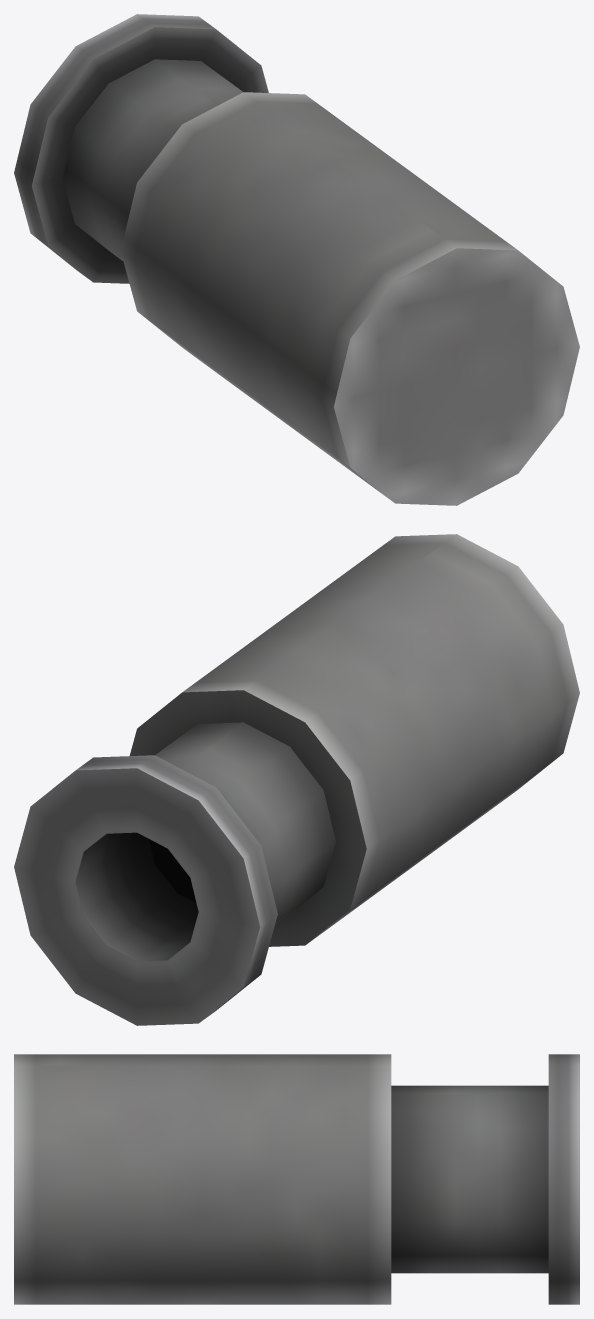
File: sp_rcs_linear_srf_1.obj
3 renders of one model, top to bottom at view 1: azimuth 30°, elevation 25°; view 2: azimuth 150°, elevation 25°; view 3: azimuth 270°, elevation 25°, orthographic. The views are drawn at different scales.
Parts seen in each view (by area): view 1: mesh1; view 2: mesh1; view 3: mesh1.
Part boxes in pixels (left/top/right/bottom): mesh1: left=14, top=14, right=579, bottom=505; mesh1: left=14, top=534, right=579, bottom=1025; mesh1: left=14, top=1054, right=579, bottom=1304.
Size of the model in its own units: 0.05 by 0.05 by 0.1125.
Materials: 1 (1 with a texture image).
